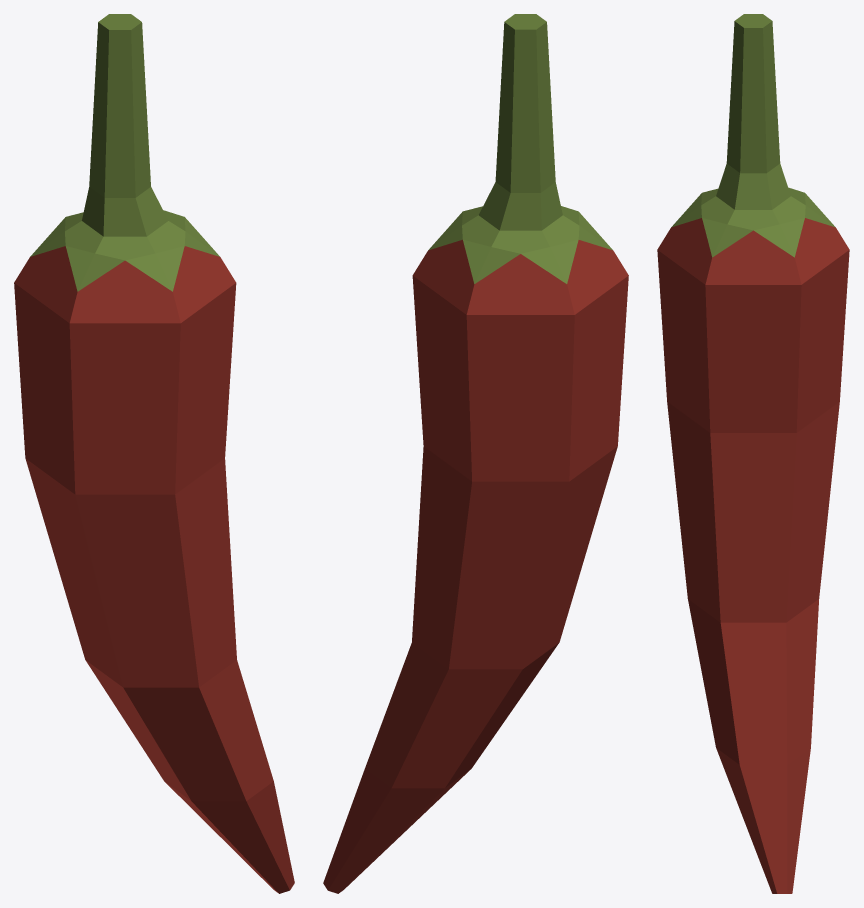
The model's file is SM_Envr_Nature_Farm_Vegetable_Chili_02.fbx.
The picture shows the model from 3 angles, left to right: view 1: azimuth 30°, elevation 25°; view 2: azimuth 150°, elevation 25°; view 3: azimuth 270°, elevation 25°; orthographic projection. The views are drawn at different scales.
Visible parts, largest first — view 1: SM_Envr_Nature_Farm_Vegetable_Chili_02; view 2: SM_Envr_Nature_Farm_Vegetable_Chili_02; view 3: SM_Envr_Nature_Farm_Vegetable_Chili_02.
Boxes of the visible parts, <box> form: SM_Envr_Nature_Farm_Vegetable_Chili_02: <box>14,14,294,893</box>; SM_Envr_Nature_Farm_Vegetable_Chili_02: <box>323,14,628,893</box>; SM_Envr_Nature_Farm_Vegetable_Chili_02: <box>657,14,849,893</box>.
Size of the model in its own units: 3.88 by 12.85 by 2.8.
